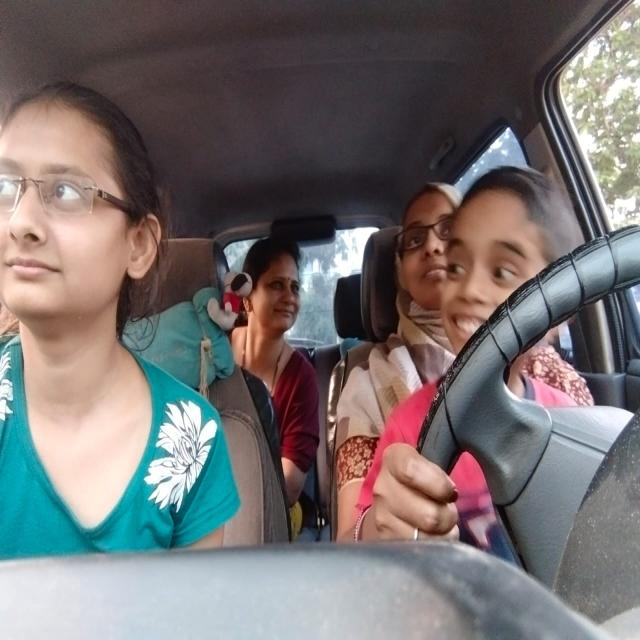child: (450, 153, 575, 392)
person: (0, 80, 165, 362), (395, 175, 466, 322), (242, 233, 308, 347)
